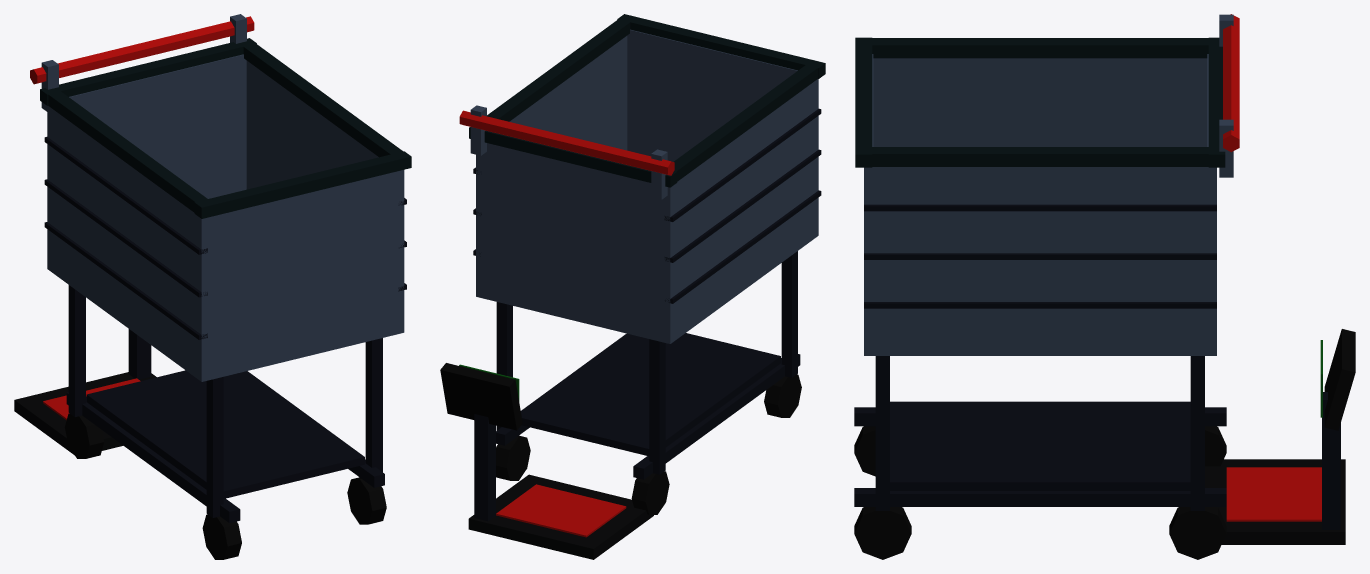
Rendered from market_kit.glb.
3 renders of one model, left to right at view 1: azimuth 30°, elevation 25°; view 2: azimuth 150°, elevation 25°; view 3: azimuth 270°, elevation 25°, orthographic. The views are drawn at different scales.
Visible parts, largest first — view 1: SM_MK_Trolley, SM_MK_Scanner; view 2: SM_MK_Trolley, SM_MK_Scanner; view 3: SM_MK_Trolley, SM_MK_Scanner.
Part boxes in pixels (bbox=[...]): SM_MK_Trolley: bbox=[30, 14, 411, 559]; SM_MK_Scanner: bbox=[14, 329, 156, 455]; SM_MK_Trolley: bbox=[459, 14, 825, 514]; SM_MK_Scanner: bbox=[440, 363, 653, 559]; SM_MK_Trolley: bbox=[854, 14, 1239, 559]; SM_MK_Scanner: bbox=[1205, 329, 1355, 544].
Size of the model in its own units: 0.6 by 1.03 by 1.05.
Materials: 2 (2 with a texture image).
